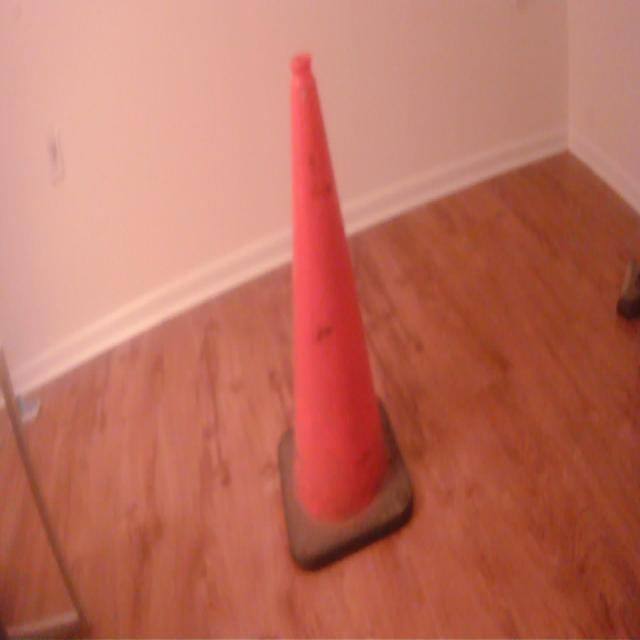traffic cone: (273, 52, 417, 577)
